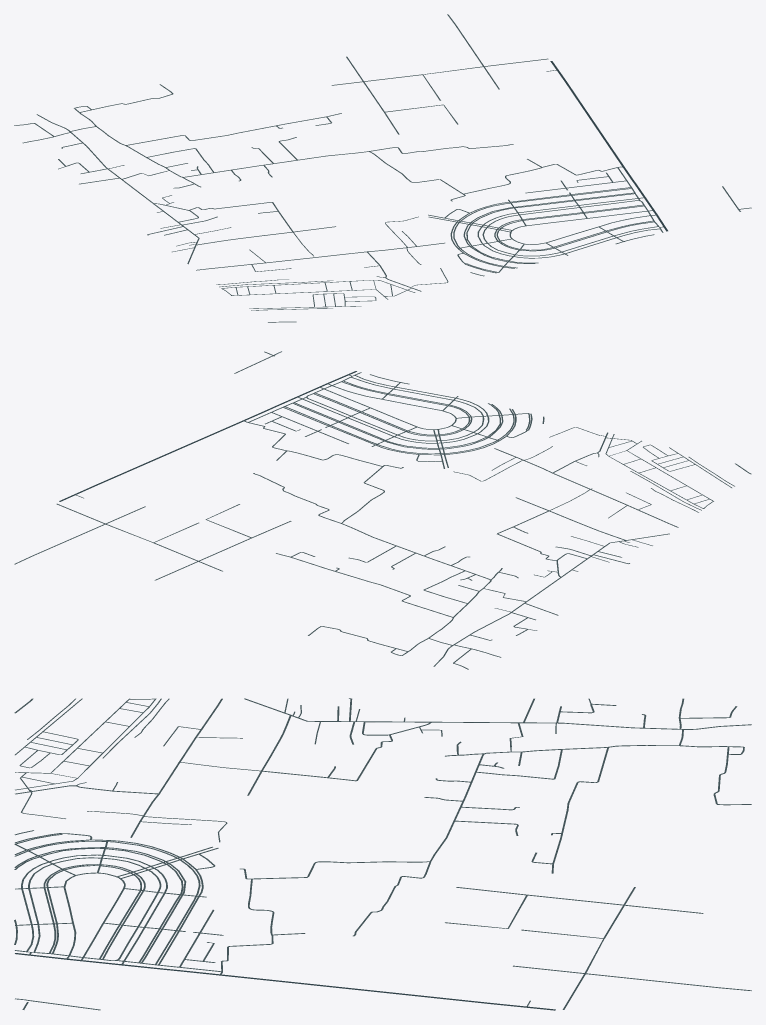
3 views of the same model, one above another, from view 1: azimuth 30°, elevation 25°; view 2: azimuth 150°, elevation 25°; view 3: azimuth 270°, elevation 25° (orthographic). The views are drawn at different scales.
Parts seen in each view (by area): view 1: street; view 2: street, major; view 3: street, major.
Boxes of the visible parts, x1,y1,x2,y2 form: street: (14,14,751,322); street: (14,351,751,669); major: (59,371,356,501); street: (14,698,751,1010); major: (15,953,555,1010).
Size of the model in its own units: 2006 by 6.22 by 2003.
